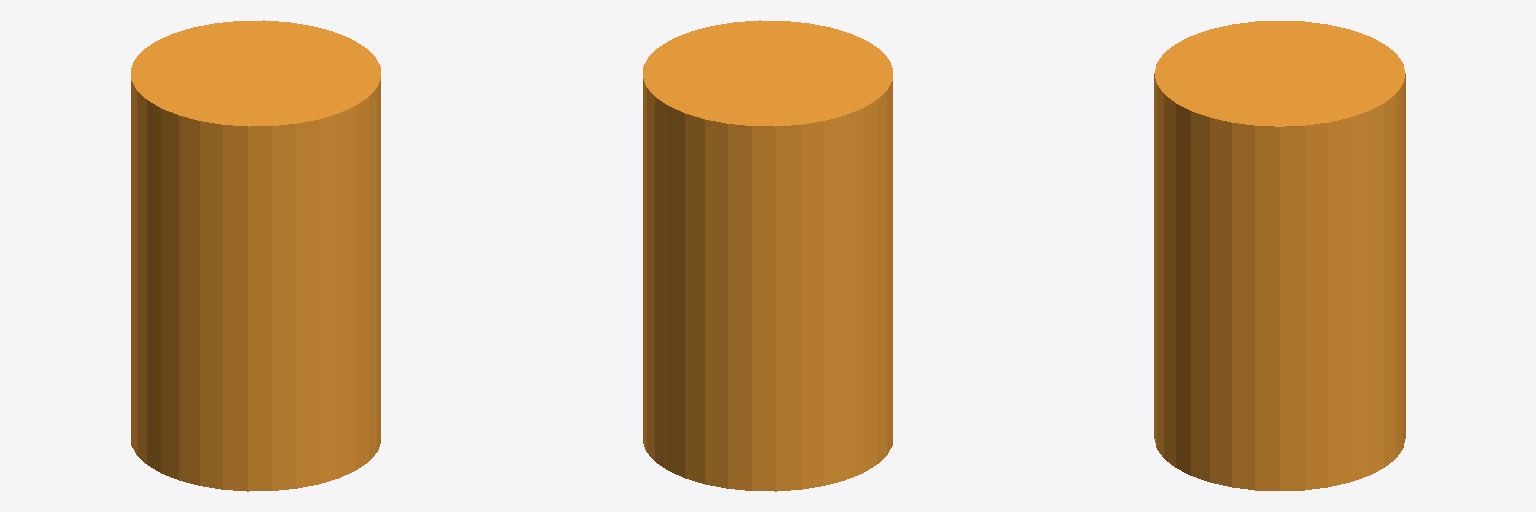
URDF robot description (model.urdf):
<?xml version="0.0" ?>
<robot name="model.urdf">

	<material name="orange">
		<color rgba="1 0.68 0.26 1"/>
	</material>

	<link name="baseLink">
		<inertial>
			<mass value="0.236"/>
			<inertia  ixx="0.000291" ixy="0.00"  ixz="0.00" iyy="0.000291" iyz="0.00" izz="0.00013164" />
		</inertial>
		<visual>
			<origin xyz="0 0 0" rpy="0 0 0"/>
			<geometry>
				<cylinder length="0.107" radius="0.0334"/>
			</geometry>
			<material name="orange"/>
		</visual>
		<collision>
			<origin xyz="0 0 0" rpy="0 0 0"/>
			<geometry>
				<cylinder length="0.107" radius="0.0334"/>
			</geometry>
		</collision>
	</link>
</robot>

--- Facts derived from the render (not from the file) ---
The picture shows the robot from 3 angles, left to right: view 1: azimuth 30°, elevation 25°; view 2: azimuth 150°, elevation 25°; view 3: azimuth 270°, elevation 25°; orthographic projection.
Robot: model.urdf — 1 links, 0 joints (none); root link baseLink; default pose: every joint at zero.
Links seen in each view (by area): view 1: baseLink; view 2: baseLink; view 3: baseLink.
Link boxes in pixels (x1,y1,x2,y2): baseLink: (131, 20, 380, 491); baseLink: (643, 20, 892, 491); baseLink: (1154, 21, 1405, 490).
Size in the robot's own frame: 0.0668 by 0.0668 by 0.107 metres.
Geometry: primitives only (box / cylinder / sphere), no mesh files.